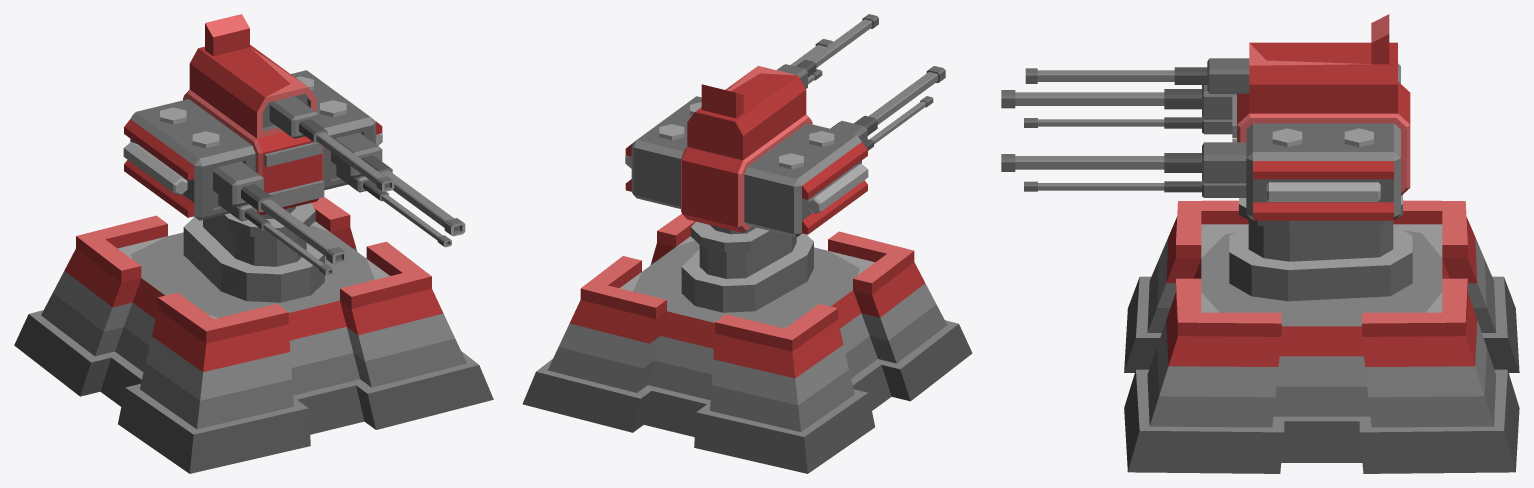
The model's file is tower_rapid_red_3.fbx.
The picture shows the model from 3 angles, left to right: view 1: azimuth 30°, elevation 25°; view 2: azimuth 150°, elevation 25°; view 3: azimuth 270°, elevation 25°; orthographic projection. The views are drawn at different scales.
Visible parts, largest first — view 1: tower_rapid_red_3, top_rapid_red_3; view 2: tower_rapid_red_3, top_rapid_red_3; view 3: tower_rapid_red_3, top_rapid_red_3.
Boxes of the visible parts, x1,y1,x2,y2 form: tower_rapid_red_3: (14, 197, 493, 473); top_rapid_red_3: (123, 14, 465, 302); tower_rapid_red_3: (522, 214, 972, 473); top_rapid_red_3: (625, 14, 945, 312); tower_rapid_red_3: (1124, 200, 1519, 473); top_rapid_red_3: (1001, 14, 1412, 301).
Size of the model in its own units: 171 by 175 by 224.
